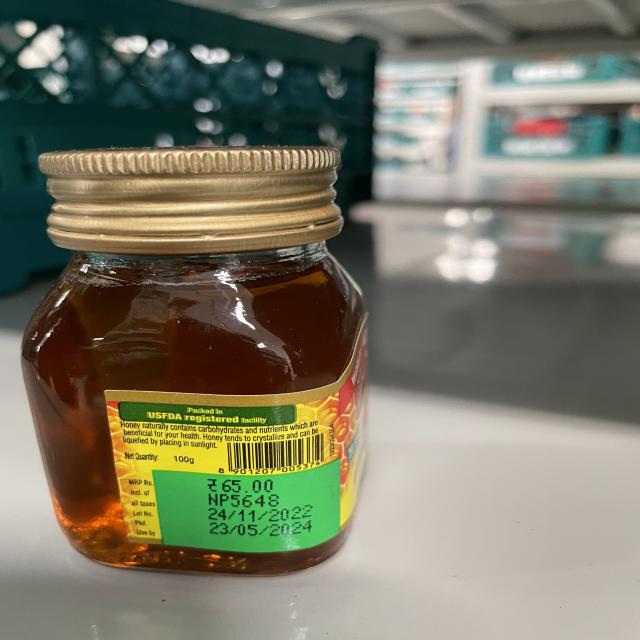object_name: (30, 147, 365, 570)
